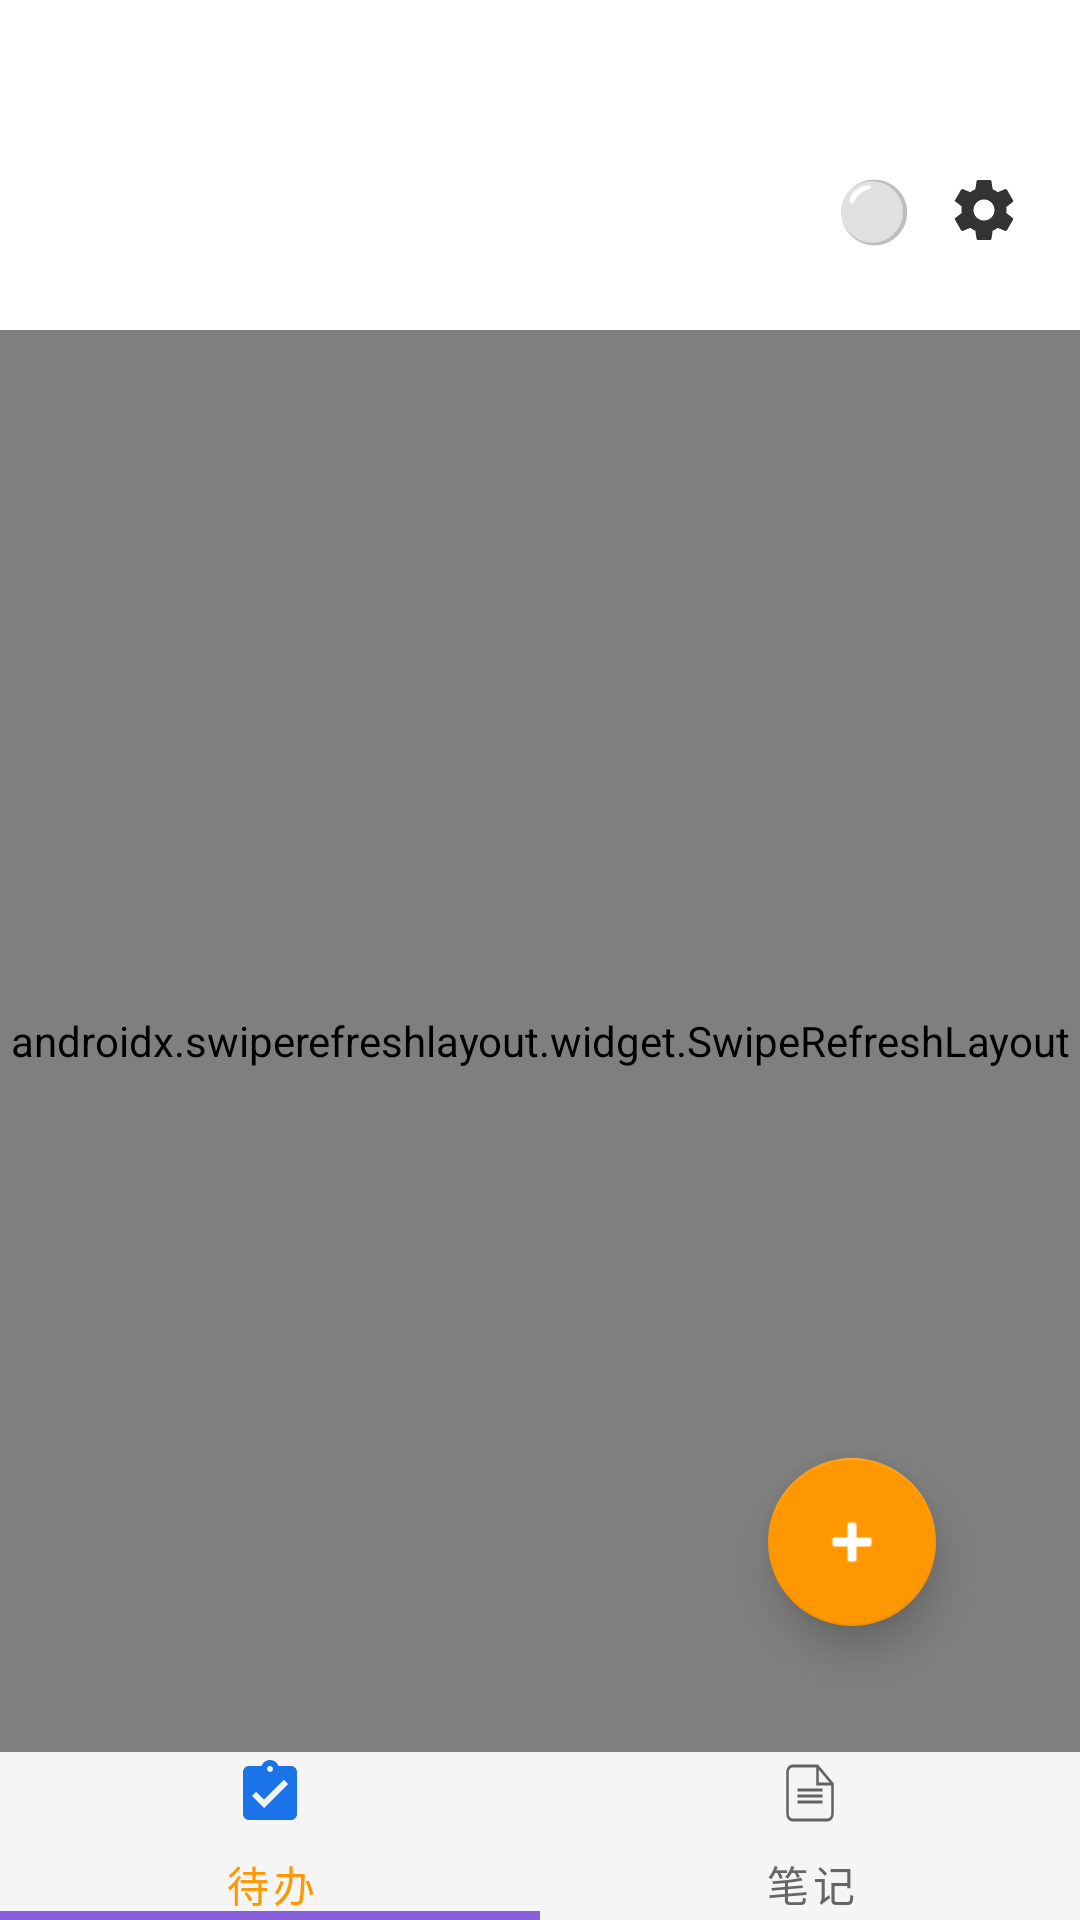

Named icons in this screenshot (1080 × 1920) and their bounding boxes, (x1, y1, x2, y2):
add: (768, 1458, 936, 1626)
设置: (954, 180, 1013, 240)
